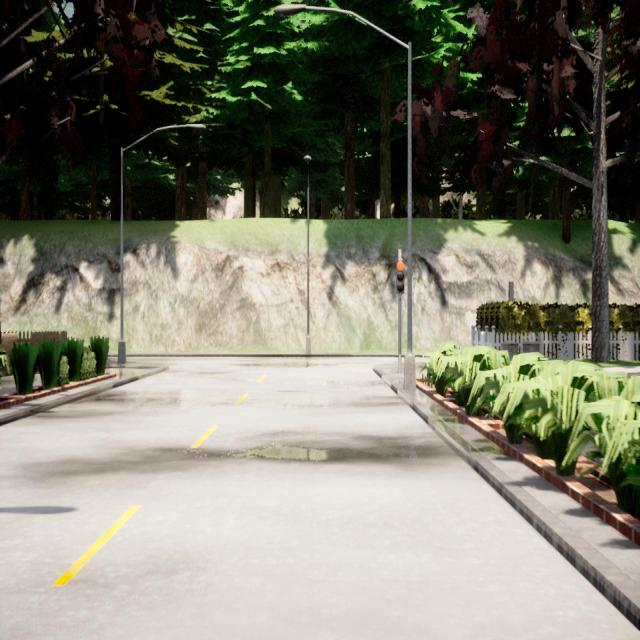traffic_light: (396, 260, 405, 294), (508, 281, 514, 300)
